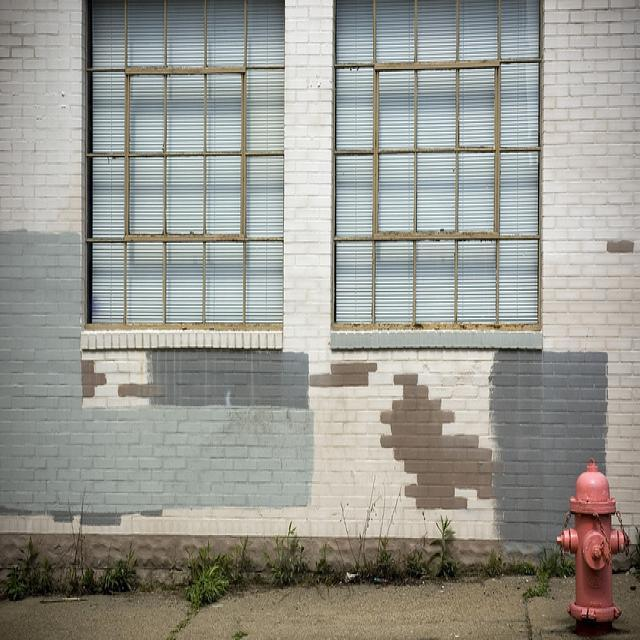fire_hydrant: (558, 458, 631, 632)
